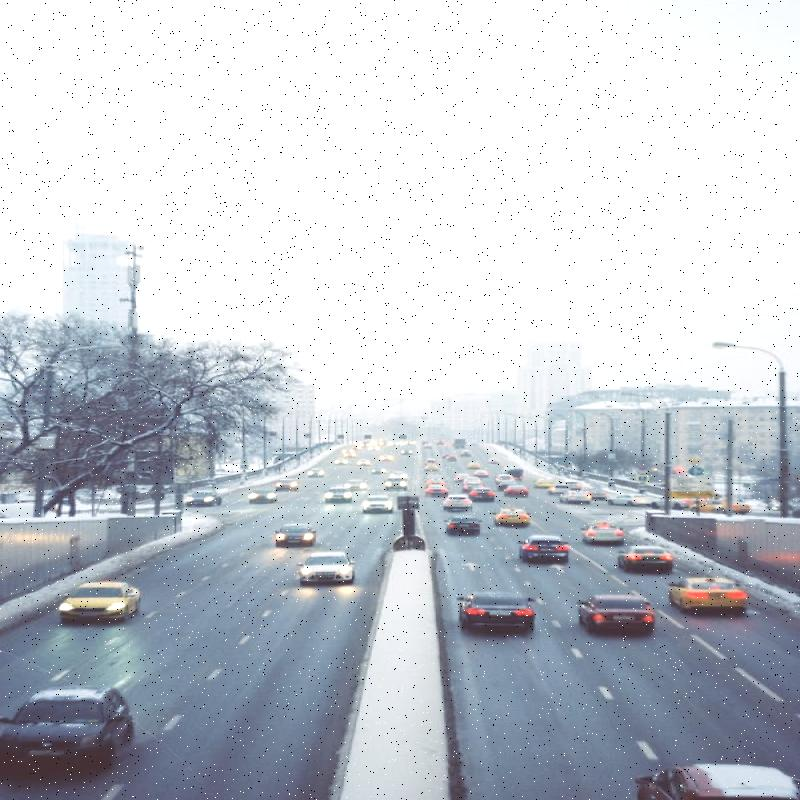car: (0, 685, 173, 783), (633, 737, 779, 800), (564, 579, 656, 651), (432, 584, 536, 637), (62, 574, 150, 631), (280, 548, 370, 594), (611, 539, 683, 593), (249, 519, 320, 569), (672, 572, 756, 614), (496, 533, 576, 566), (582, 512, 642, 556)
